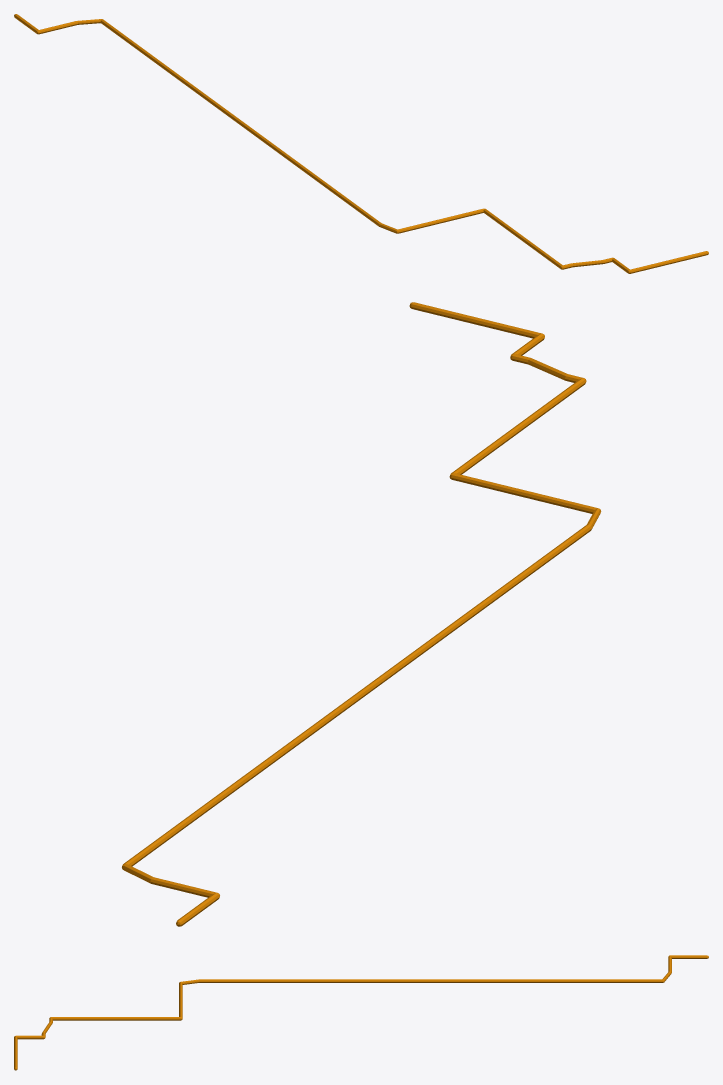
The picture shows the model from 3 angles, top to bottom: view 1: azimuth 30°, elevation 25°; view 2: azimuth 150°, elevation 25°; view 3: azimuth 270°, elevation 25°; orthographic projection. The views are drawn at different scales.
Bounding box in the file's own units: 1445 × 20 × 3748.
